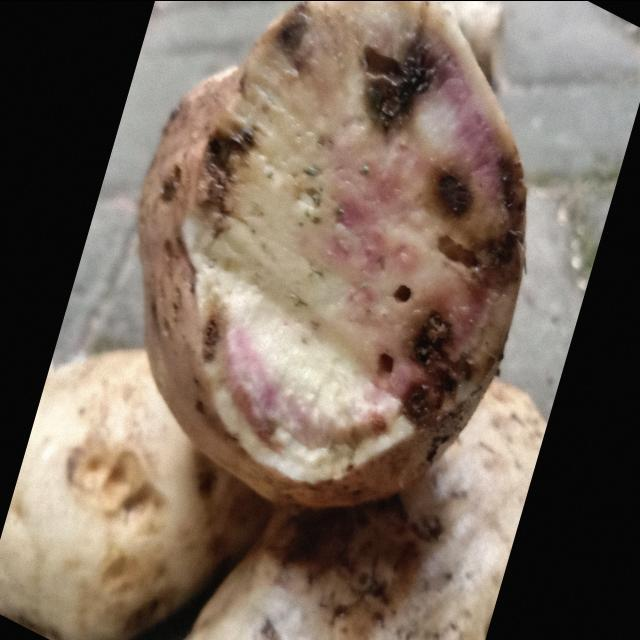Sick Sweet Potato_Tuber Rot: (139, 2, 526, 507)
